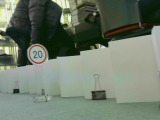speed_20: (26, 43, 49, 66)
